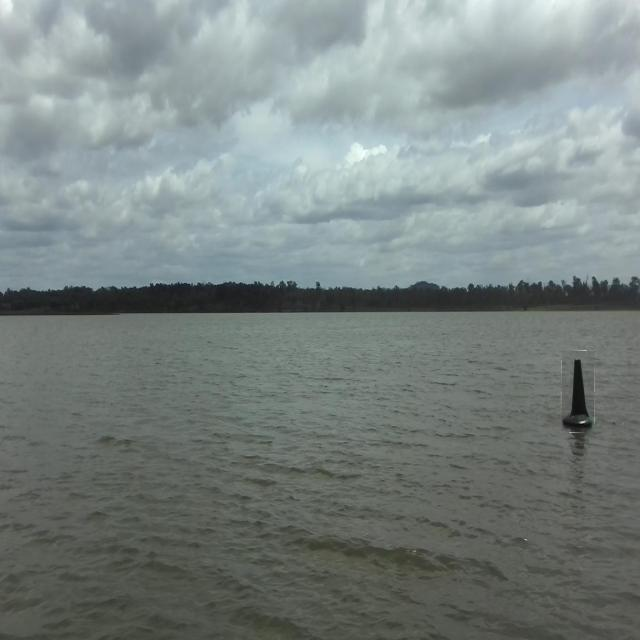Black_Buoy: (561, 346, 595, 436)
